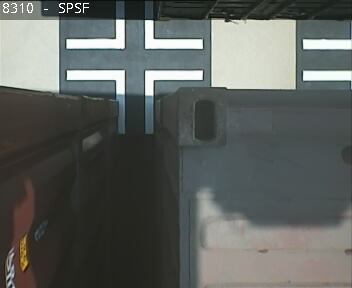groundmarker_1: (66, 67, 203, 133), (66, 1, 202, 49)
